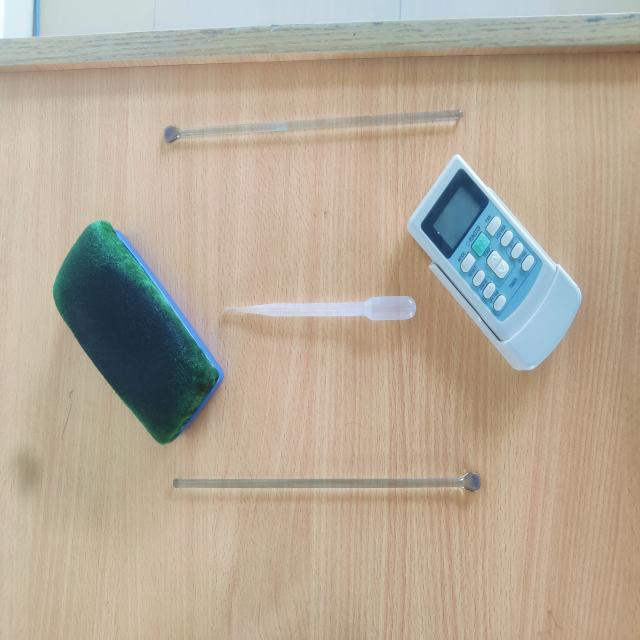Glass_Rod: (144, 416, 518, 552), (130, 69, 478, 188)
Pipette: (204, 259, 428, 352)
